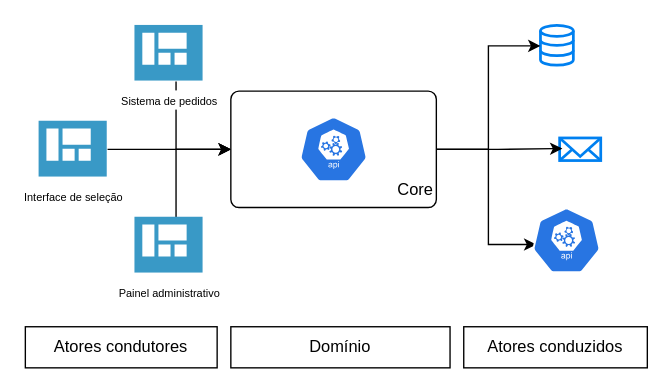
The diagram is 671 pixels wide and 392 high, and some of its shapes have lost their labels. The shapes that lost their labels are listed below. From the top down, each one's box as (x1, y1, x2, y2) in pixels, then its label:
(538, 23, 574, 66): Banco de dados
(558, 136, 601, 161): Sistema de notificação
(531, 206, 601, 273): API de pagamento
